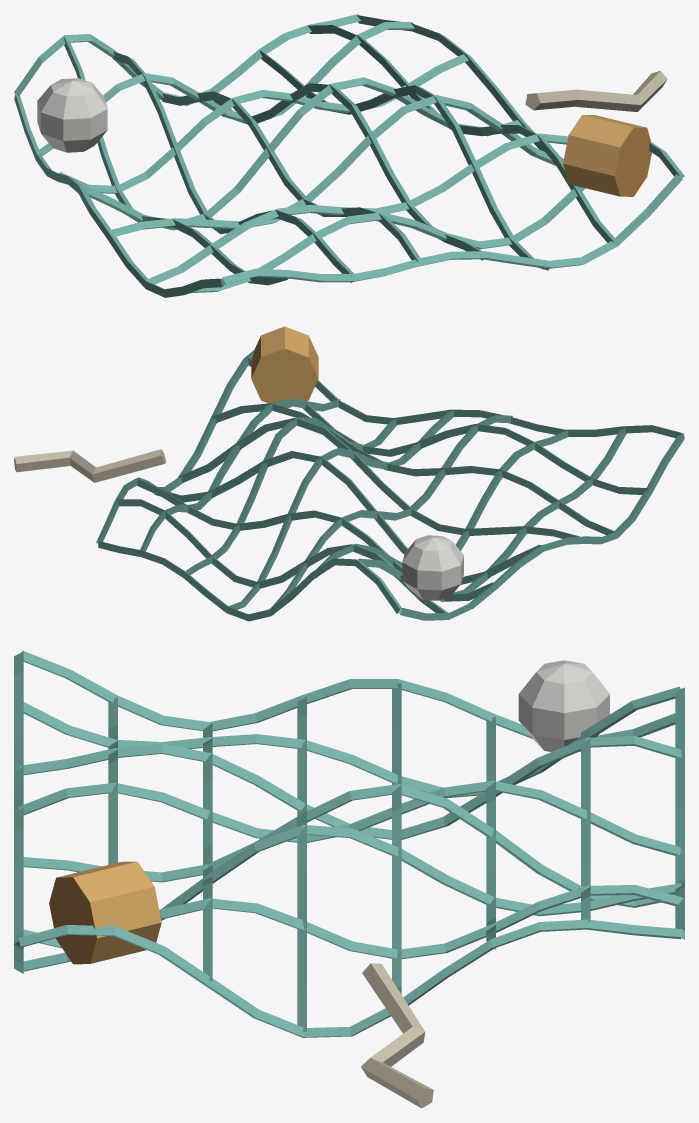
Rendered from rescue_net.glb.
3 renders of one model, top to bottom at view 1: azimuth 30°, elevation 25°; view 2: azimuth 150°, elevation 25°; view 3: azimuth 270°, elevation 25°, orthographic. The views are drawn at different scales.
Parts seen in each view (by area): view 1: rescue_net; view 2: rescue_net; view 3: rescue_net.
Boxes of the visible parts, x1,y1,x2,y2 form: rescue_net: (14,14,684,297); rescue_net: (14,326,684,621); rescue_net: (14,650,684,1108).
Bounding box in the file's own units: 0.82 × 0.1537 × 0.629.
